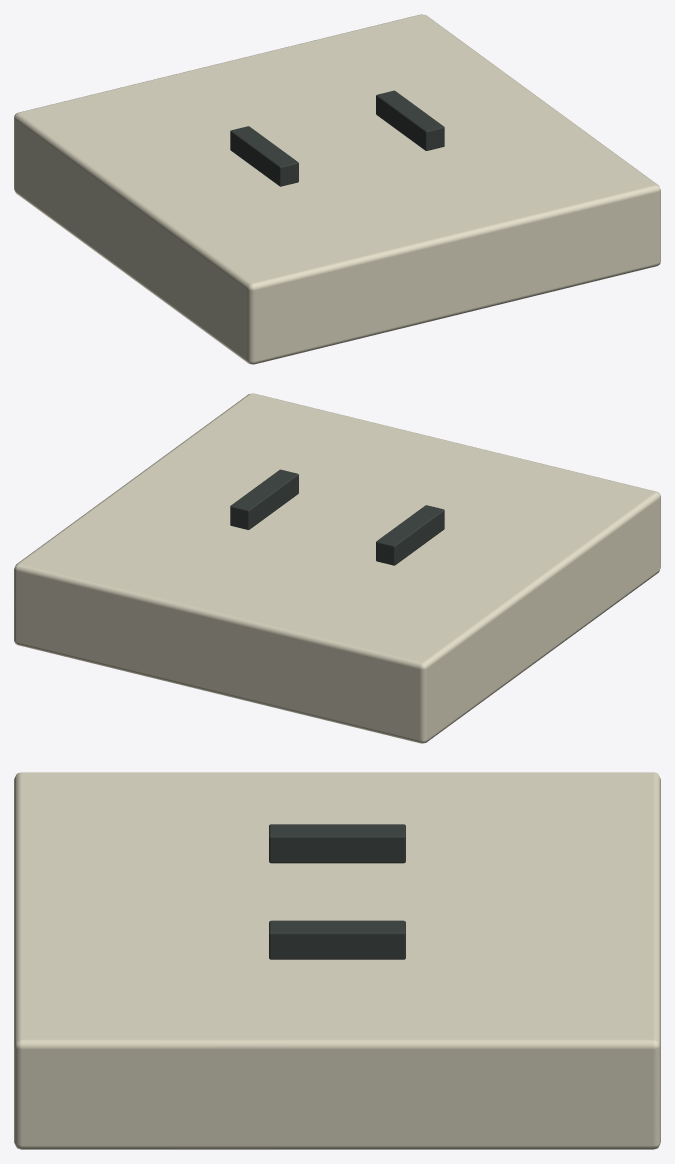
Rendered from scavengers-loot-library-wall-socket-1d035672__2521.glb.
The picture shows the model from 3 angles, top to bottom: view 1: azimuth 30°, elevation 25°; view 2: azimuth 150°, elevation 25°; view 3: azimuth 270°, elevation 25°; orthographic projection. The views are drawn at different scales.
Visible parts, largest first — view 1: wall-socket; view 2: wall-socket; view 3: wall-socket.
Part boxes in pixels (bbox=[...]): wall-socket: bbox=[14, 14, 660, 364]; wall-socket: bbox=[14, 393, 660, 743]; wall-socket: bbox=[14, 772, 660, 1149].
Bounding box in the file's own units: 0.085 × 0.02 × 0.085.
